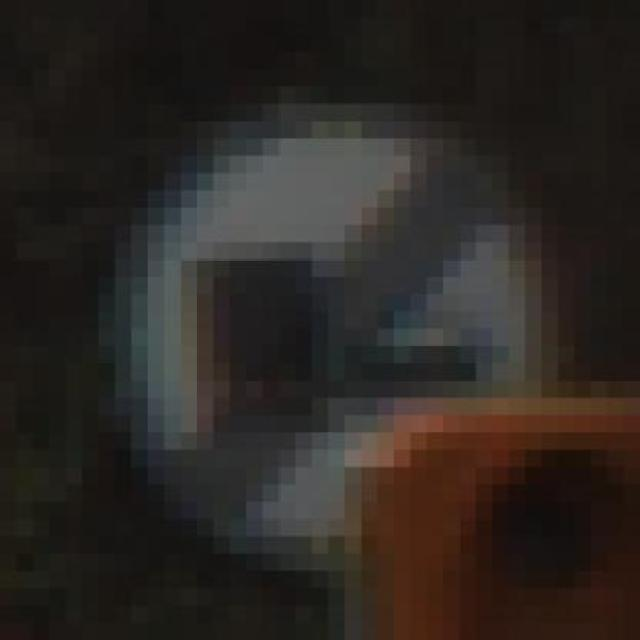Overtaking by trucks is prohibited: (82, 69, 575, 588)
